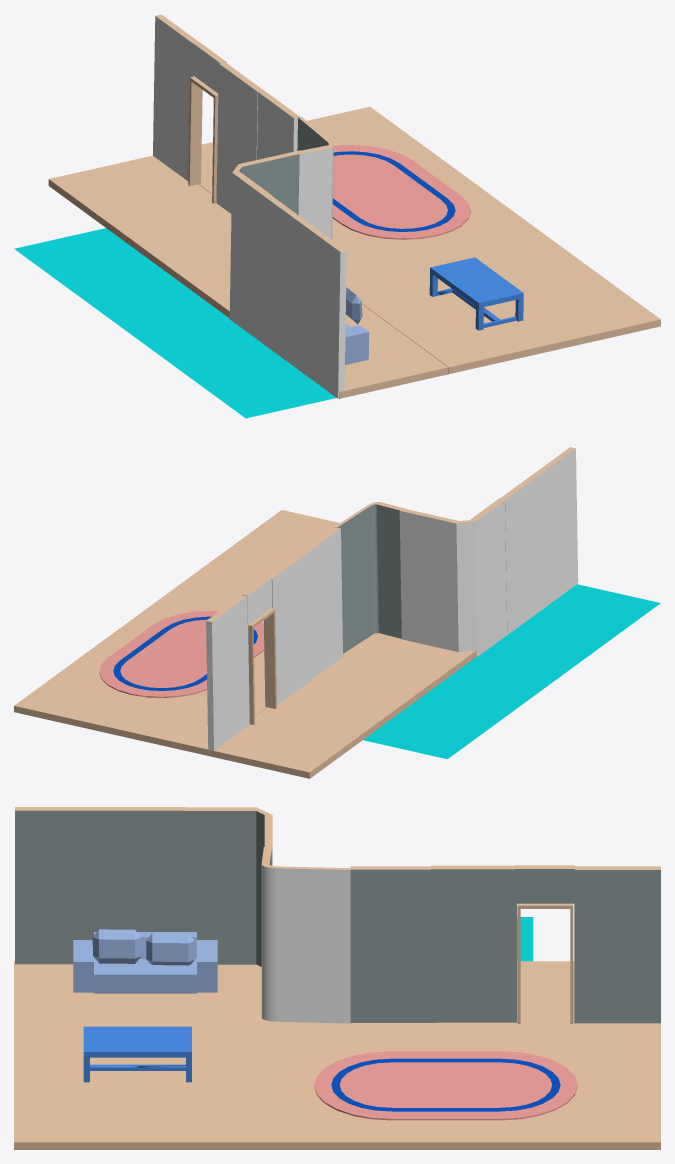
The model's file is livingroom.glb.
3 views of the same model, one above another, from view 1: azimuth 30°, elevation 25°; view 2: azimuth 150°, elevation 25°; view 3: azimuth 270°, elevation 25° (orthographic). The views are drawn at different scales.
Visible parts, largest first — view 1: floorFull.002; view 2: floorFull.002; view 3: floorFull.002.
Boxes of the visible parts, <box> form: floorFull.002: <box>14,14,660,418</box>; floorFull.002: <box>14,447,660,778</box>; floorFull.002: <box>14,807,660,1149</box>.
Bounding box in the file's own units: 2.06 × 0.7236 × 2.51.
